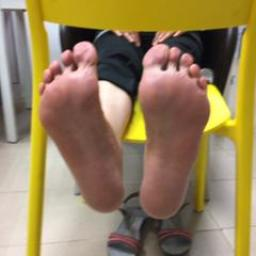Plantar View -Both Feet-: (24, 23, 230, 236)
